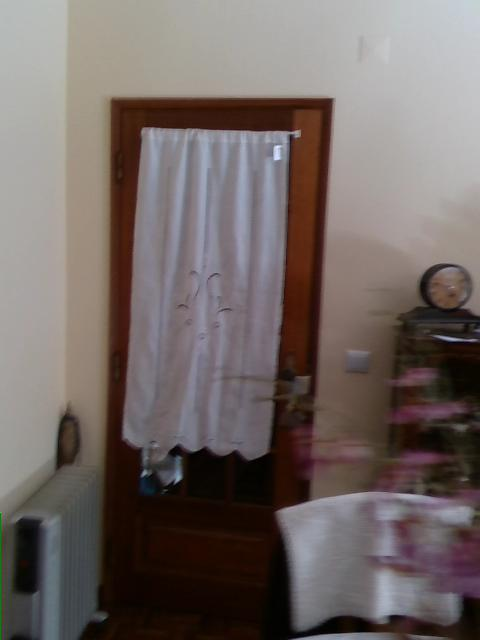door: (96, 96, 332, 627)
